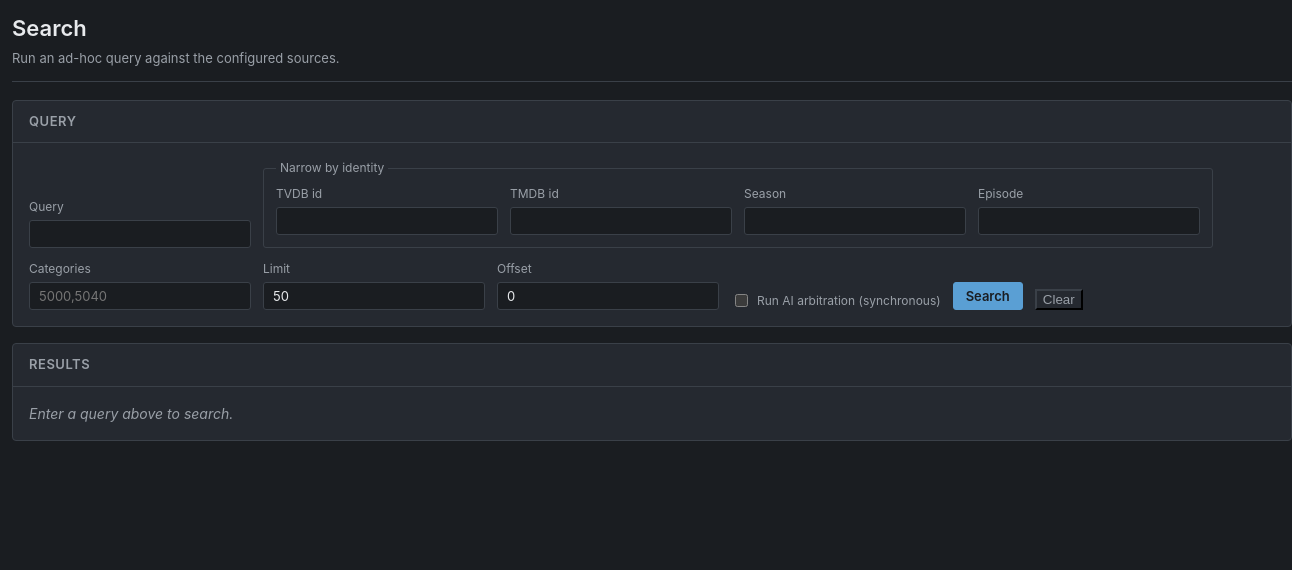
Test case: Search › size rendering (arb-i3v7: binary units via the shared formatBytes) › renders the em dash only for a genuinely absent size
Step 1. Type "some series" into the field labelled "Query" → {"x": 140, "y": 234}, box [29, 220, 251, 248]
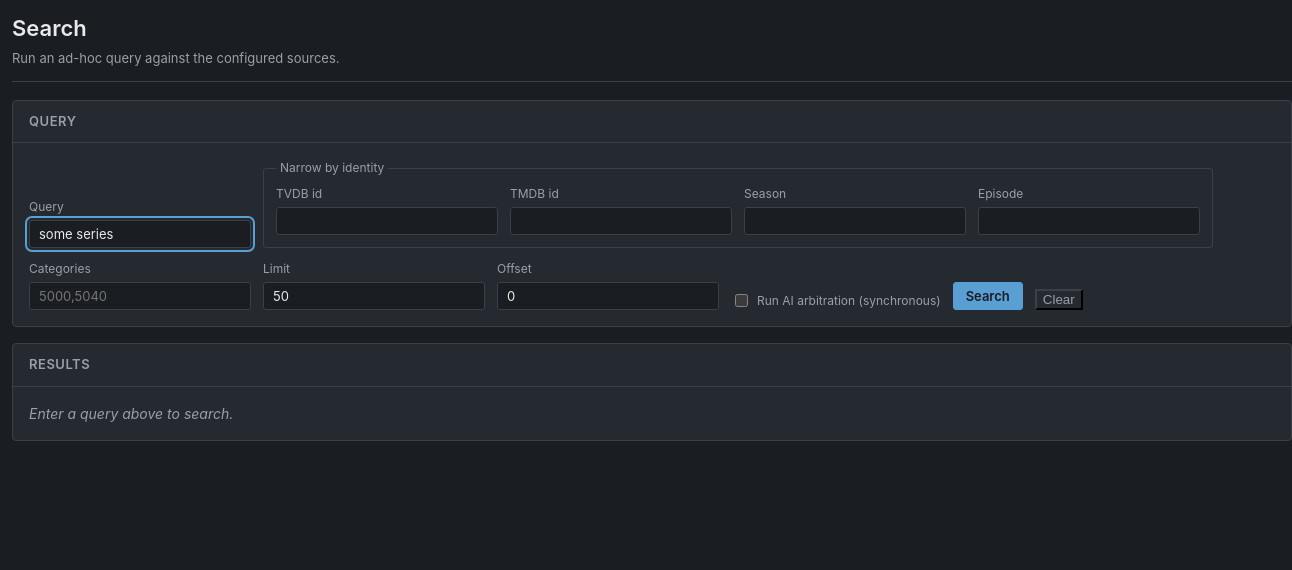
Step 2. Click the button "Search" → {"x": 988, "y": 296}, box [953, 282, 1023, 310]
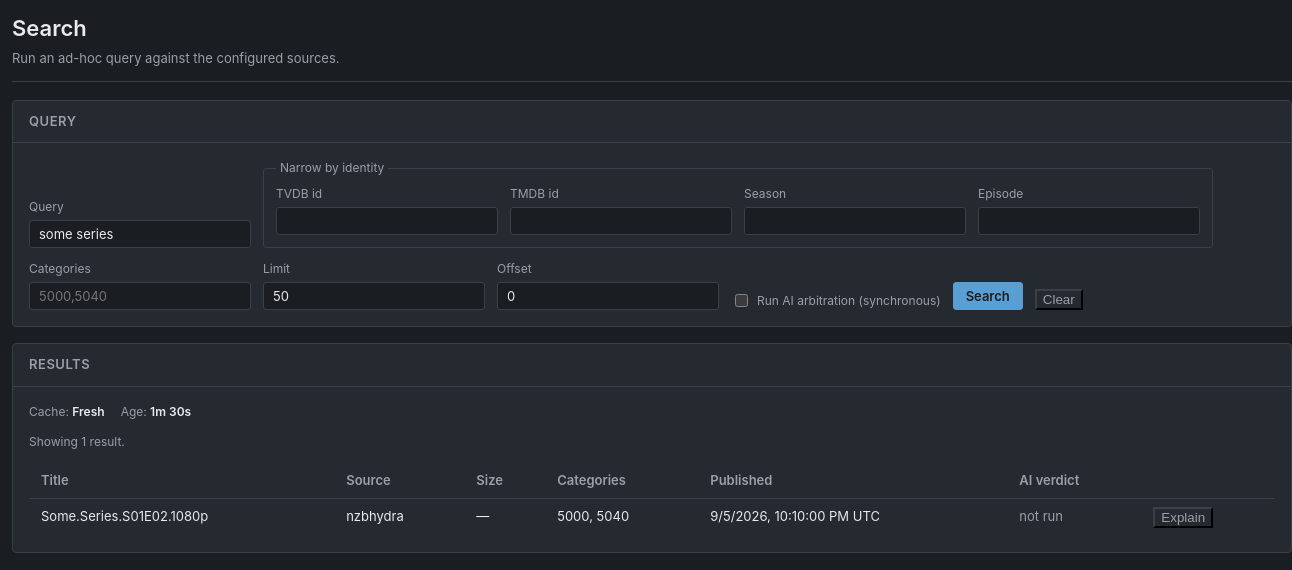
Check: the text "Some.Series.S01E02.1080p" is shown, box [29, 498, 334, 536]
Check: the text "—" is shown, box [464, 498, 545, 536]
